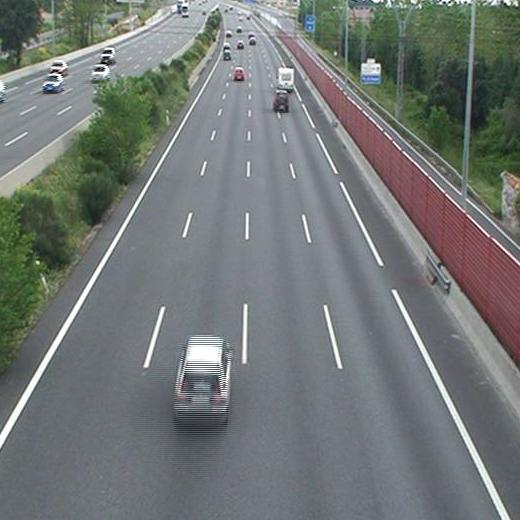car: (174, 335, 229, 416), (274, 91, 289, 110), (234, 68, 245, 81), (222, 50, 230, 59)
van: (276, 68, 294, 90)
